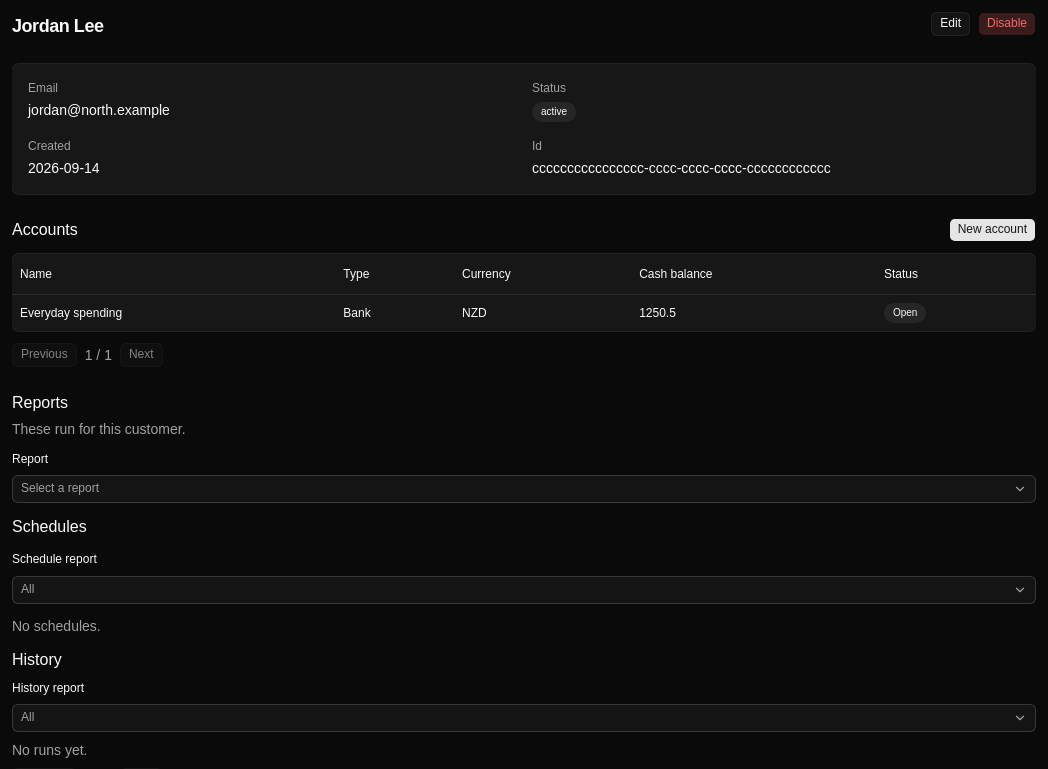
Test: CustomerDetailPage › lists customer-scoped reports and does not request book scope
Expected: the heading "Reports" is shown, [12, 394, 68, 411]
Expected: the text "These run for this customer." is shown, [12, 421, 186, 437]
Click the dropdown labelled "report" at (60,488), box [12, 475, 1036, 503]
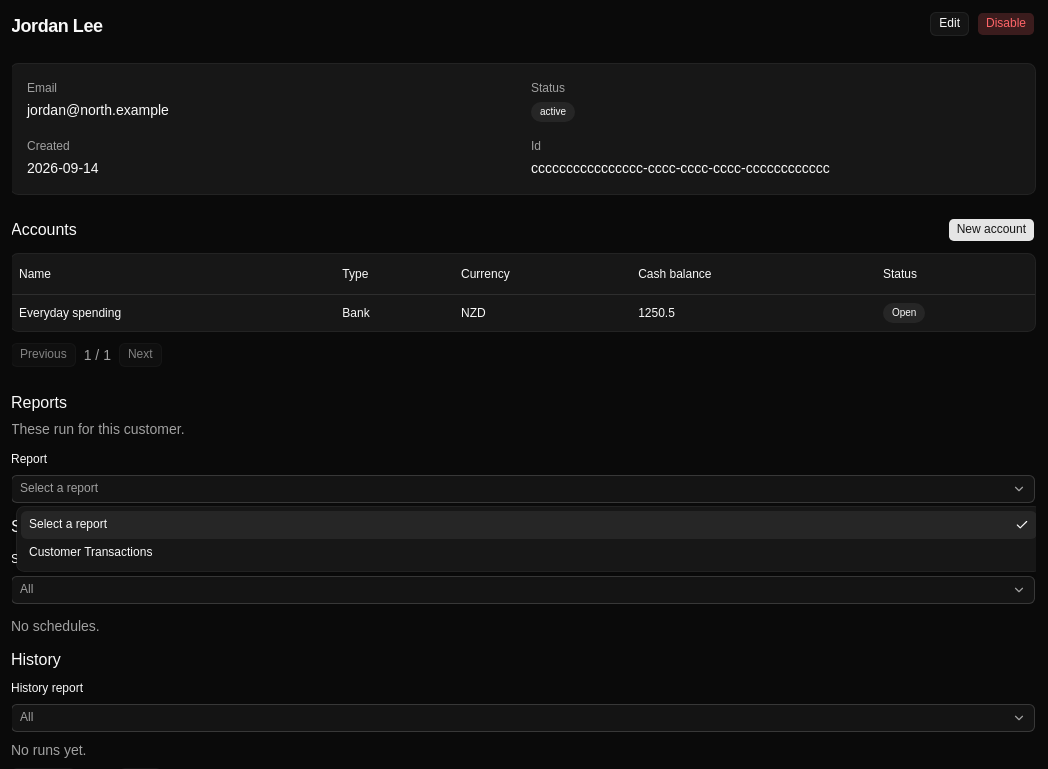
Expected: the text "Lists cash and security activity for one customer." is not shown
Expected: the option "Customer Transactions" is shown
Click the option "Customer Transactions" at (91,552), box [29, 545, 152, 559]
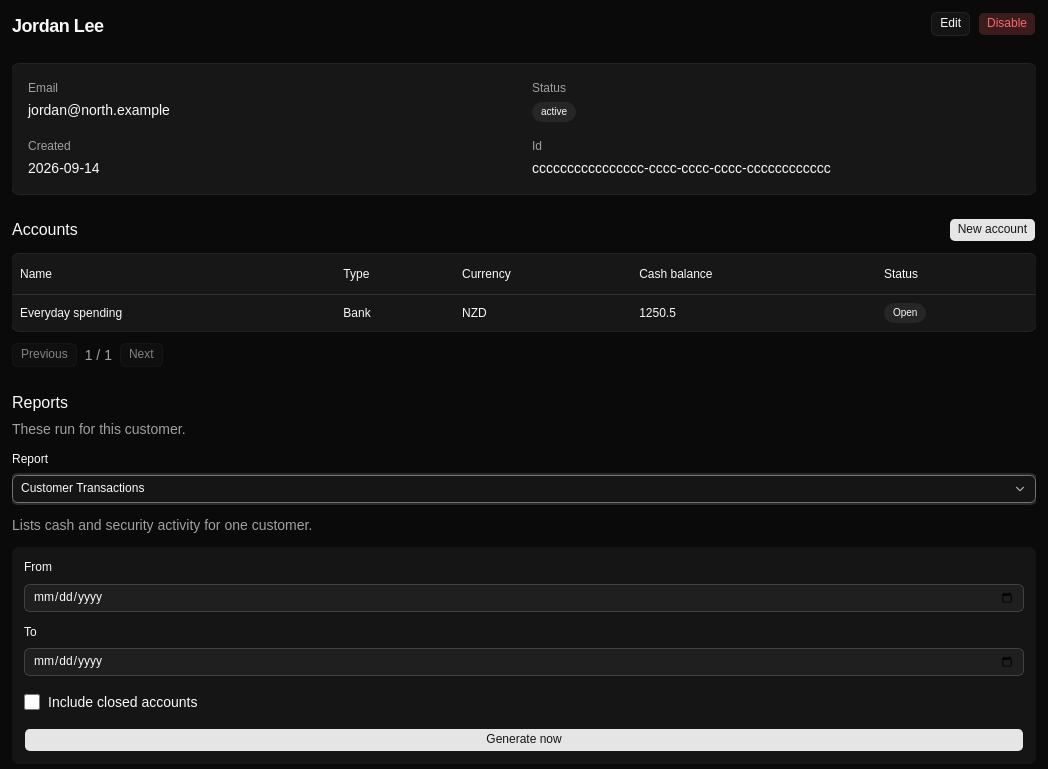
Expected: the text "Lists cash and security activity for one customer." is shown, [12, 517, 312, 533]
Expected: the date field labelled "From" is shown, [24, 584, 1024, 612]
